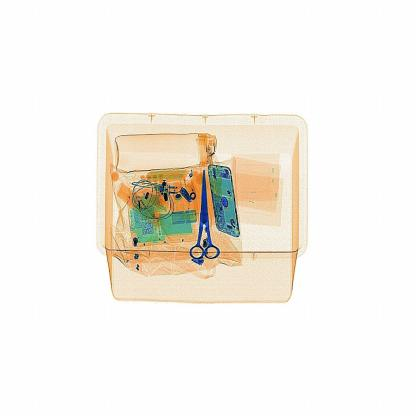gun: (177, 162, 233, 263)
